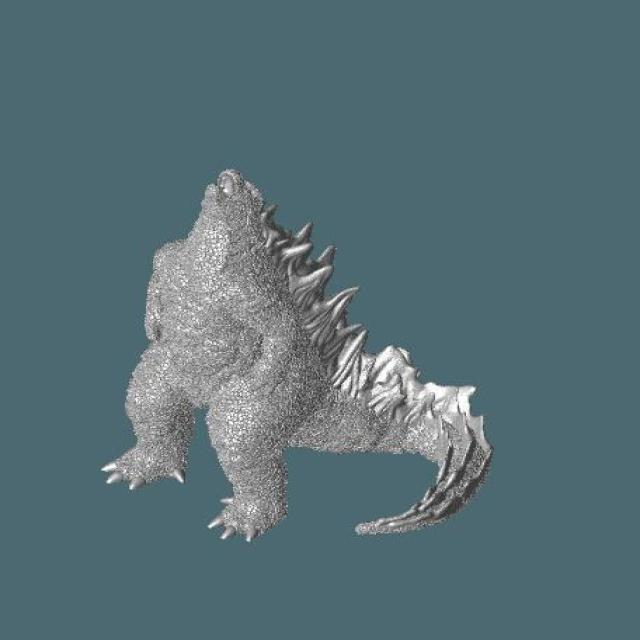Without deffect: (99, 165, 502, 570)
